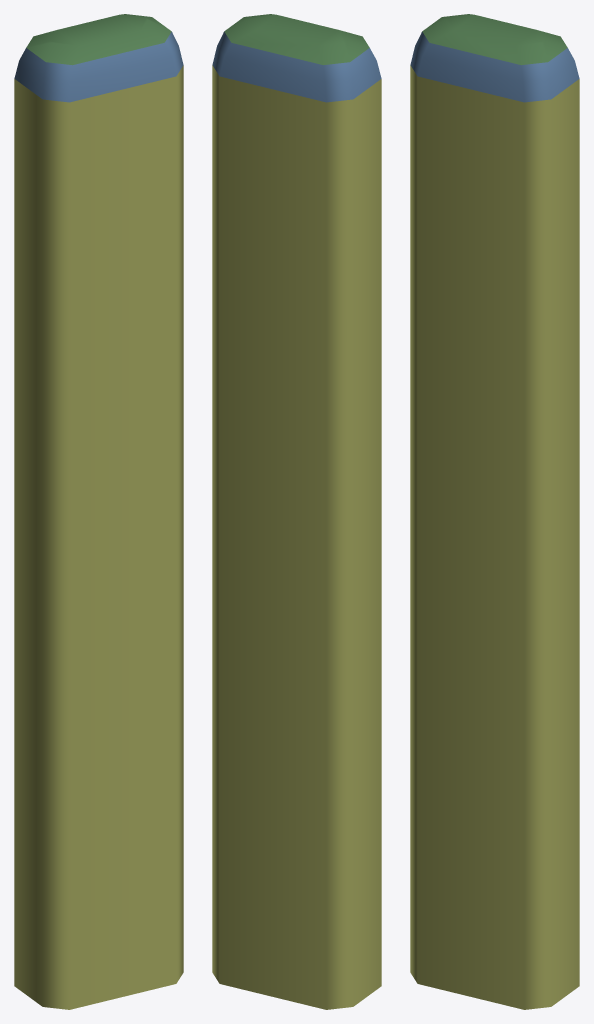
File: Mini_PLat7.fbx
3 renders of one model, left to right at view 1: azimuth 30°, elevation 25°; view 2: azimuth 150°, elevation 25°; view 3: azimuth 330°, elevation 25°, orthographic.
Parts seen in each view (by area): view 1: Mini_PLat3, Wall10, Ground12; view 2: Mini_PLat3, Wall10, Ground12; view 3: Mini_PLat3, Wall10, Ground12.
Part boxes in pixels (bbox=[...]): Mini_PLat3: bbox=[14, 65, 183, 1009]; Wall10: bbox=[14, 31, 183, 102]; Ground12: bbox=[26, 14, 171, 65]; Mini_PLat3: bbox=[212, 65, 381, 1009]; Wall10: bbox=[212, 31, 381, 102]; Ground12: bbox=[224, 14, 369, 65]; Mini_PLat3: bbox=[410, 65, 579, 1009]; Wall10: bbox=[410, 31, 579, 102]; Ground12: bbox=[422, 14, 567, 65].
Size of the model in its own units: 2037 by 13112 by 1200.
